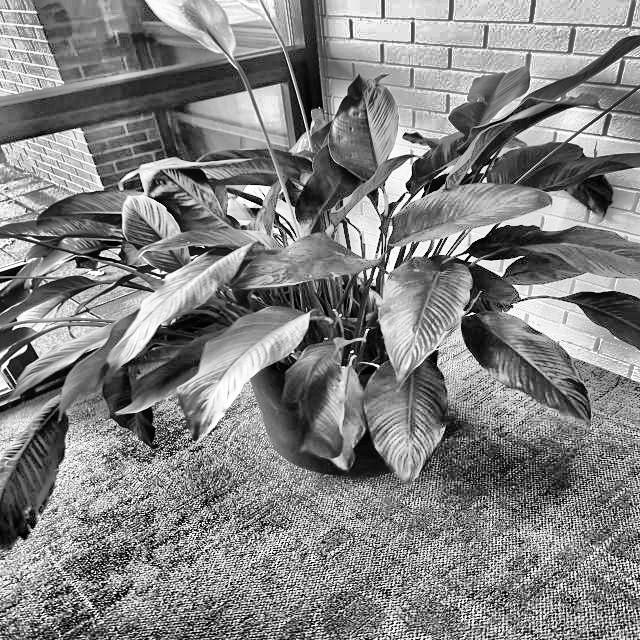plants: (99, 146, 640, 374)
